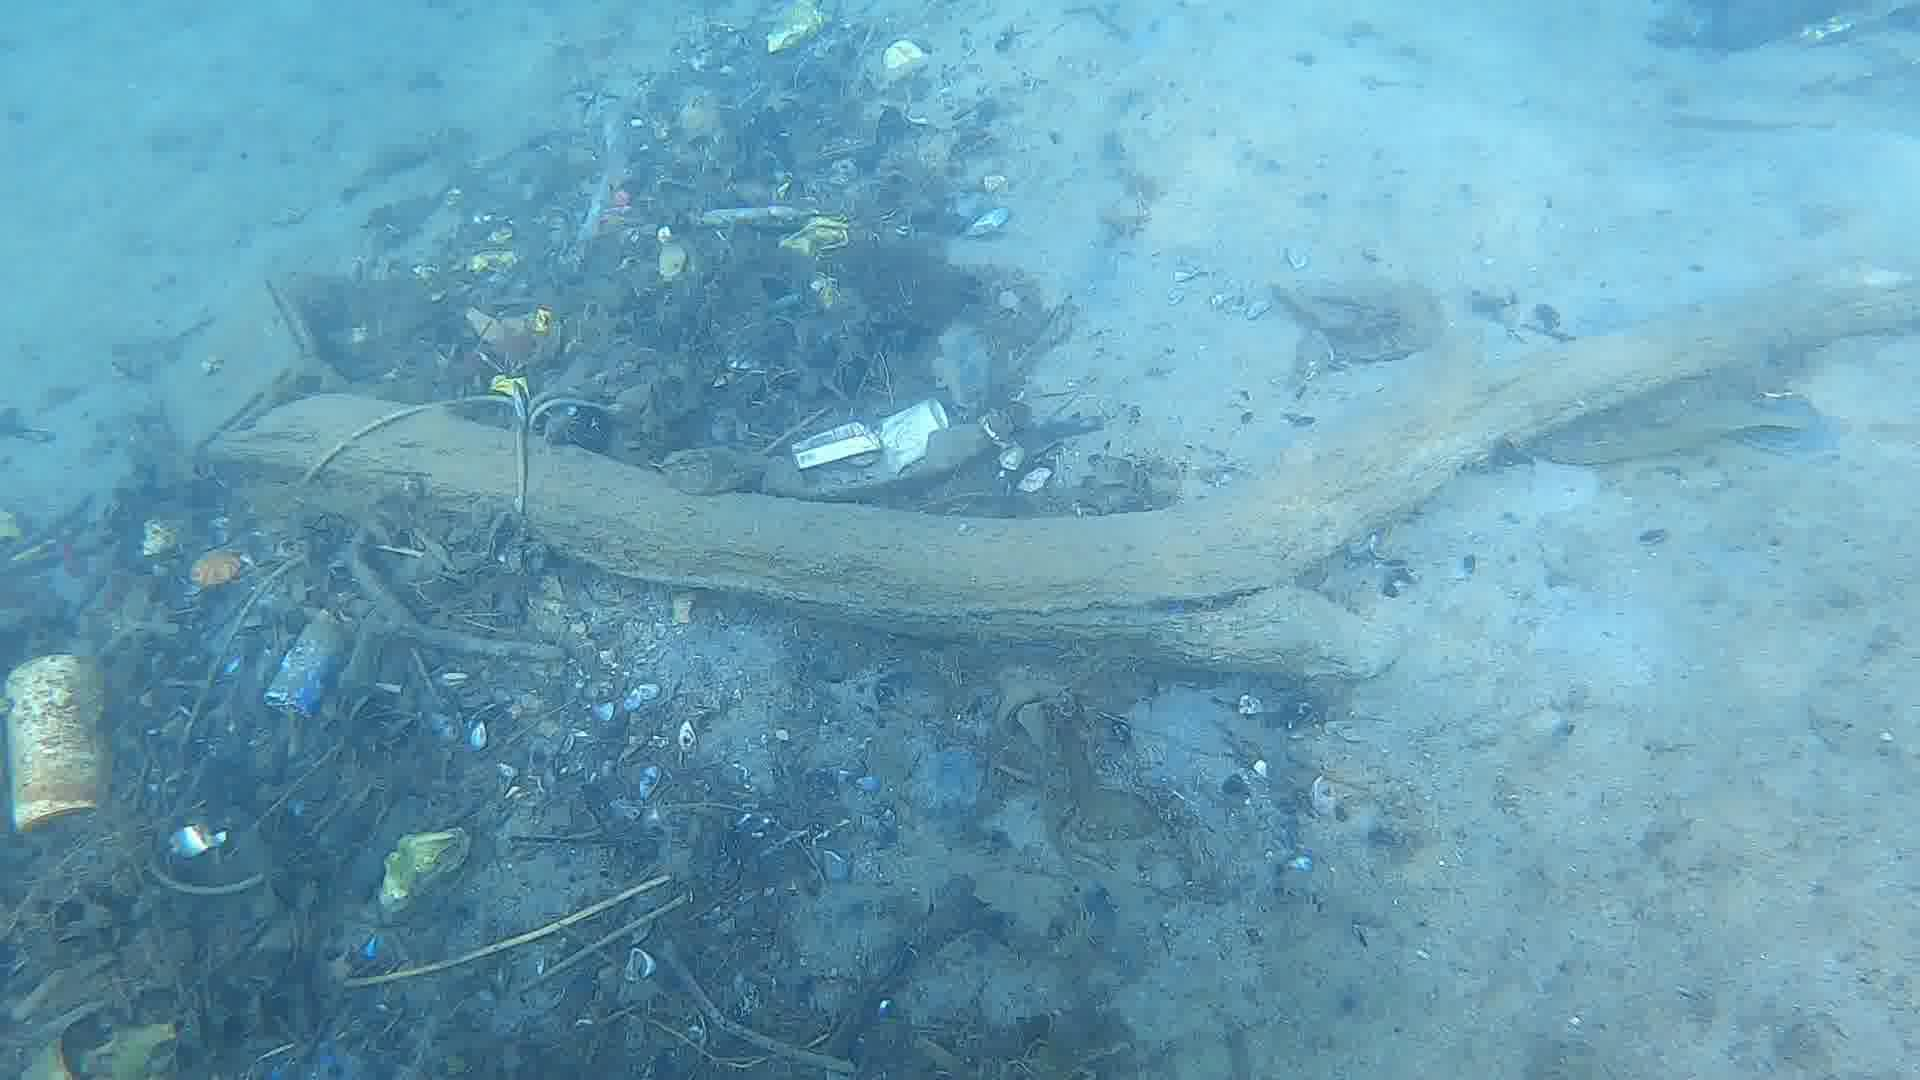wood: (200, 255, 1920, 676)
